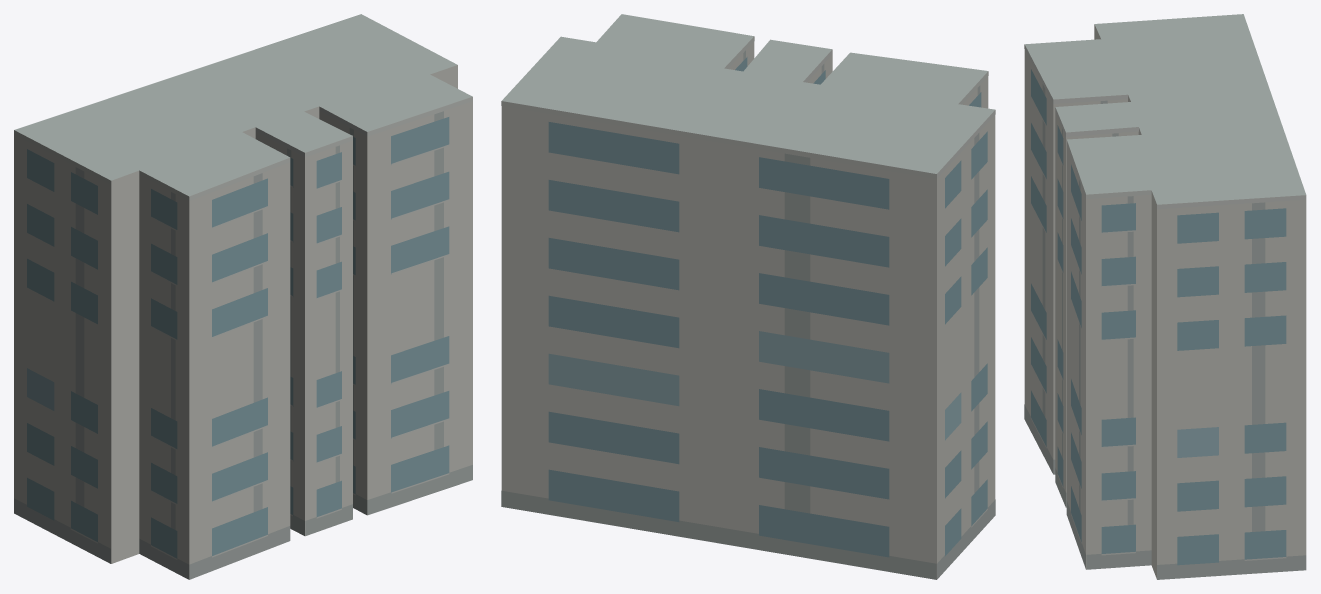
File: survey-upis-32717020.glb
3 views of the same model, side by side, from view 1: azimuth 30°, elevation 25°; view 2: azimuth 150°, elevation 25°; view 3: azimuth 270°, elevation 25° (orthographic). The views are drawn at different scales.
Parts seen in each view (by area): view 1: survey-upis-32717020.tmp; view 2: survey-upis-32717020.tmp; view 3: survey-upis-32717020.tmp.
Boxes of the visible parts, left/top/right/bottom form: survey-upis-32717020.tmp: left=14, top=14, right=472, bottom=579; survey-upis-32717020.tmp: left=501, top=14, right=995, bottom=579; survey-upis-32717020.tmp: left=1024, top=14, right=1306, bottom=579.
Bounding box in the file's own units: 21.39 × 19.6 × 13.36.
